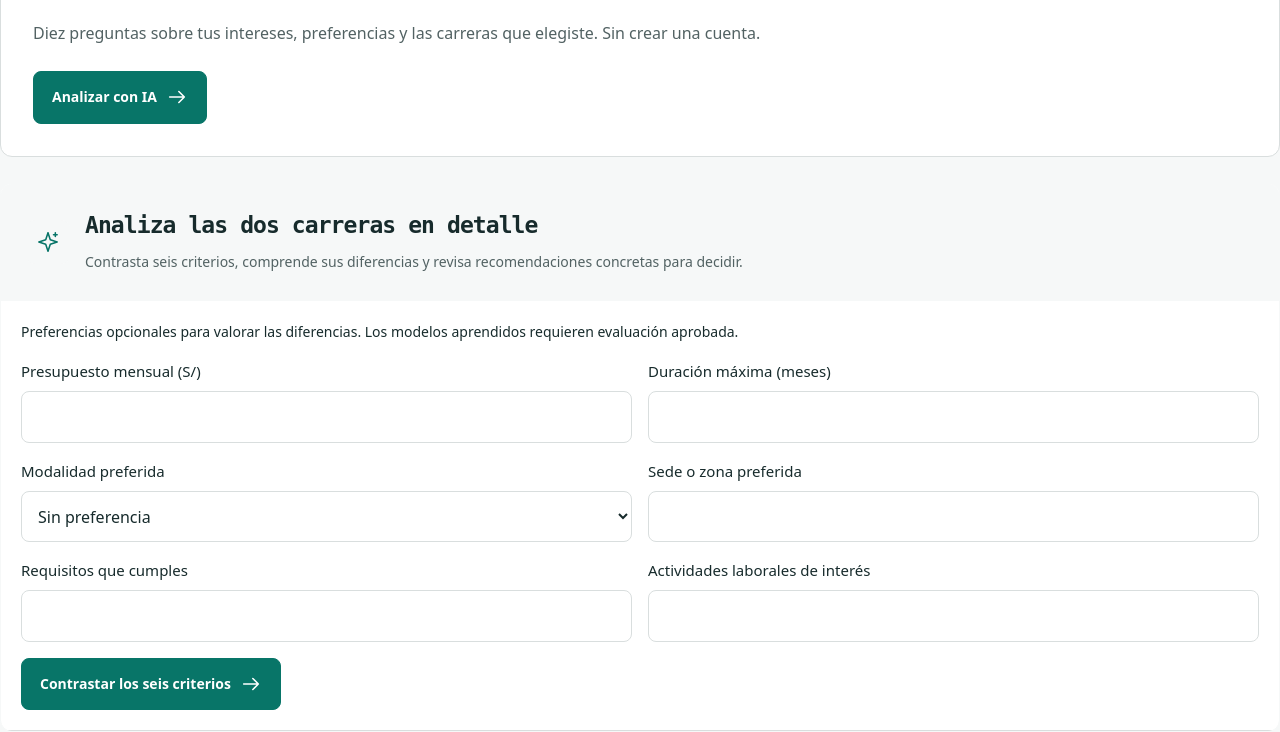
Test case: Análisis HU-IA01 › conserva la comparación cuando falla IA y permite reintentar
This screenshot has width=1280, height=732.
(page scrolled)
Click the button "Contrastar los seis criterios": (151, 684) [21,658,281,710]
(page scrolled)
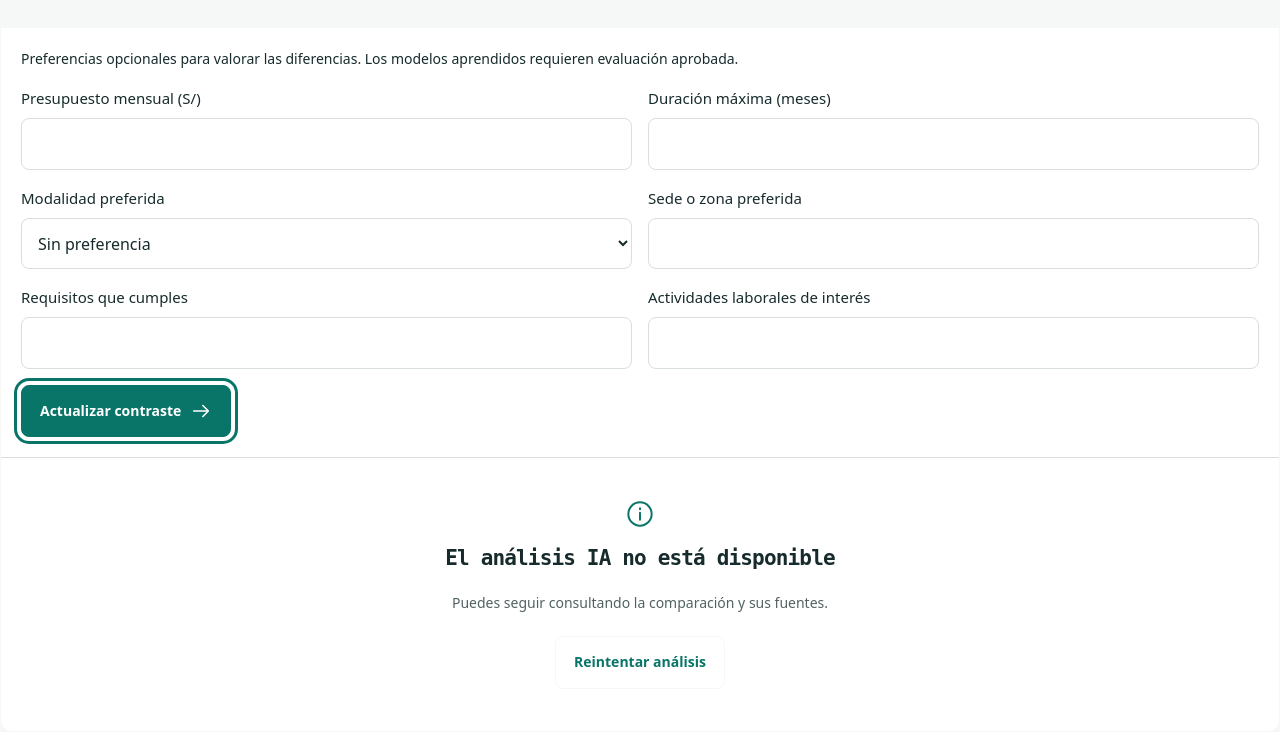
Now the heading "El análisis IA no está disponible" is shown, box [445,546,835,570]
Now the button "Reintentar análisis" is shown, box [555,636,725,689]
